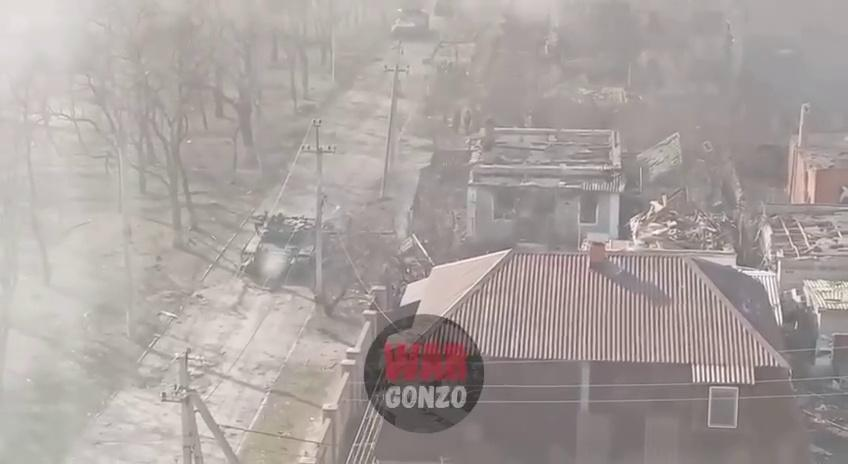tank: (240, 210, 326, 280)
